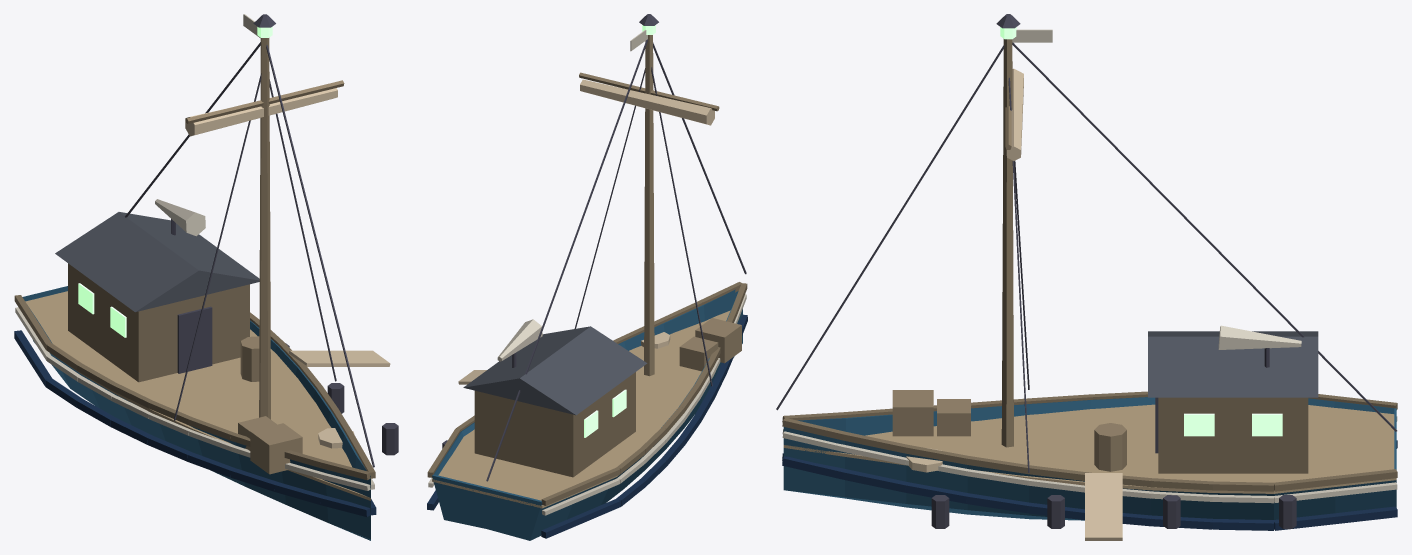
File: ferry.glb
3 views of the same model, side by side, from view 1: azimuth 30°, elevation 25°; view 2: azimuth 150°, elevation 25°; view 3: azimuth 270°, elevation 25° (orthographic). The views are drawn at different scales.
Visible parts, largest first — view 1: driftwood_d35, driftwood_d10, slate_d25, tide_d25, driftwood_d25, ink_l20, abyss_d10, bone_d10, driftwood_l20, moss_l10_glow; view 2: driftwood_d35, driftwood_d10, slate_d25, tide_d25, driftwood_d25, ink_l20, abyss_d10, bone_d10, driftwood_l20, moss_l10_glow; view 3: driftwood_d10, tide_d25, driftwood_d35, slate_d25, driftwood_d25, ink_l20, abyss_d10, bone_d10, driftwood_l20, moss_l10_glow.
Boxes of the visible parts, left/top/right/bottom form: driftwood_d35: left=14, top=263, right=375, bottom=480; driftwood_d10: left=25, top=291, right=370, bottom=500; slate_d25: left=55, top=212, right=259, bottom=312; tide_d25: left=22, top=286, right=370, bottom=540; driftwood_d25: left=185, top=38, right=344, bottom=474; ink_l20: left=125, top=14, right=398, bottom=467; abyss_d10: left=14, top=330, right=376, bottom=516; bone_d10: left=15, top=14, right=374, bottom=490; driftwood_l20: left=185, top=88, right=390, bottom=448; moss_l10_glow: left=78, top=26, right=272, bottom=337; driftwood_d35: left=427, top=282, right=747, bottom=505; driftwood_d10: left=432, top=310, right=730, bottom=508; slate_d25: left=463, top=326, right=647, bottom=415; tide_d25: left=432, top=289, right=742, bottom=540; driftwood_d25: left=579, top=35, right=741, bottom=376; ink_l20: left=442, top=14, right=746, bottom=481; abyss_d10: left=427, top=314, right=747, bottom=538; bone_d10: left=428, top=30, right=746, bottom=515; driftwood_l20: left=458, top=79, right=714, bottom=384; moss_l10_glow: left=584, top=25, right=655, bottom=437; driftwood_d10: left=783, top=404, right=1396, bottom=493; tide_d25: left=783, top=397, right=1396, bottom=520; driftwood_d35: left=782, top=391, right=1397, bottom=491; slate_d25: left=1148, top=331, right=1318, bottom=397; driftwood_d25: left=892, top=39, right=1126, bottom=471; ink_l20: left=776, top=14, right=1397, bottom=528; abyss_d10: left=782, top=440, right=1397, bottom=530; bone_d10: left=782, top=29, right=1397, bottom=503; driftwood_l20: left=906, top=68, right=1122, bottom=540; moss_l10_glow: left=1000, top=27, right=1282, bottom=436.
Bounding box in the file's own units: 4.6 × 8.19 × 9.13.
